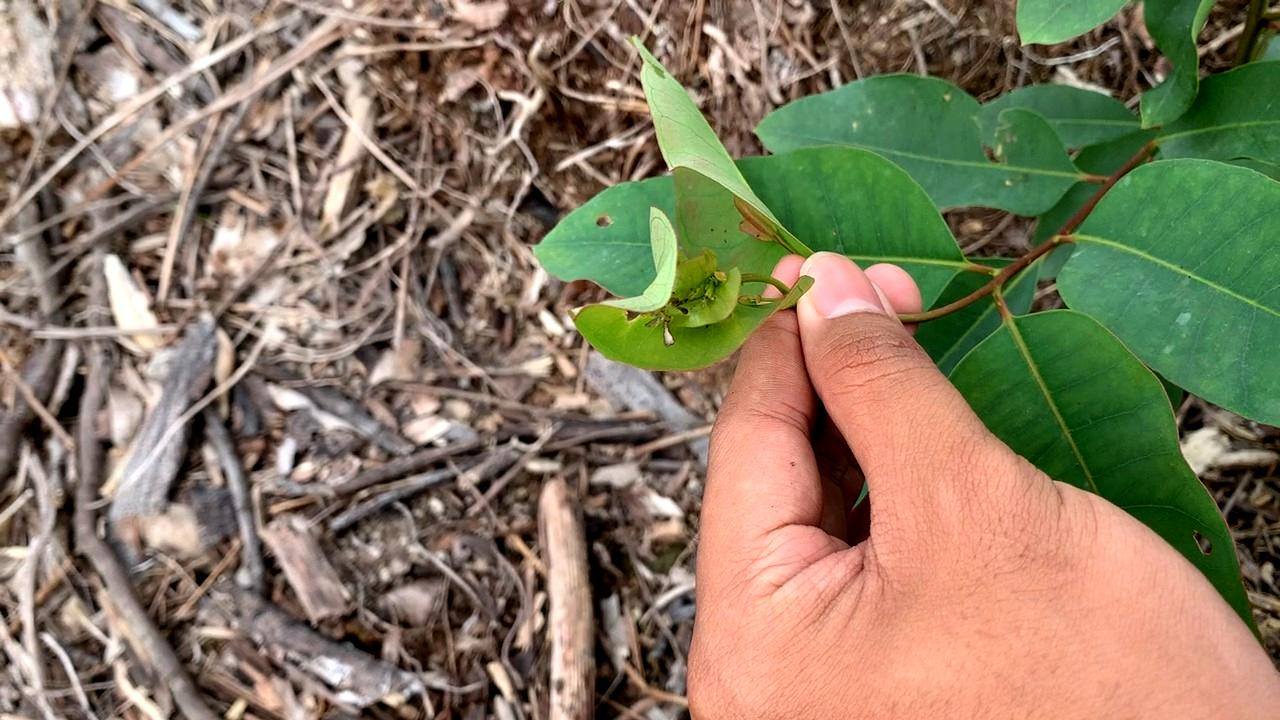Leaf Roller - Leaf: (580, 212, 830, 370)
